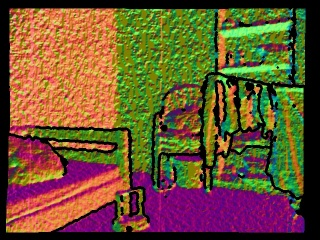station: (111, 187, 150, 233)
